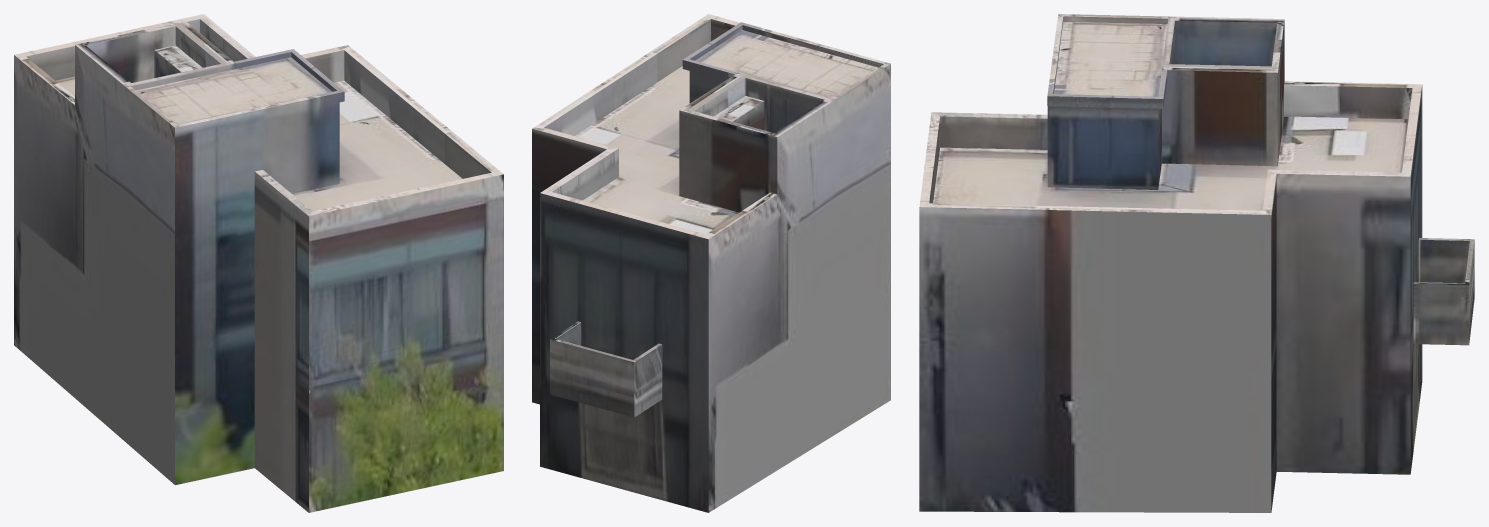
3 views of the same model, side by side, from view 1: azimuth 30°, elevation 25°; view 2: azimuth 150°, elevation 25°; view 3: azimuth 270°, elevation 25° (orthographic). The views are drawn at different scales.
Parts seen in each view (by area): view 1: B282994030901062A0; view 2: B282994030901062A0; view 3: B282994030901062A0.
Part boxes in pixels (x1,y1,x2,y2): B282994030901062A0: [14, 14, 503, 512]; B282994030901062A0: [532, 14, 890, 512]; B282994030901062A0: [919, 14, 1474, 512].
Bounding box in the file's own units: 8.87 × 10.94 × 15.
1 material, 1 textured.
